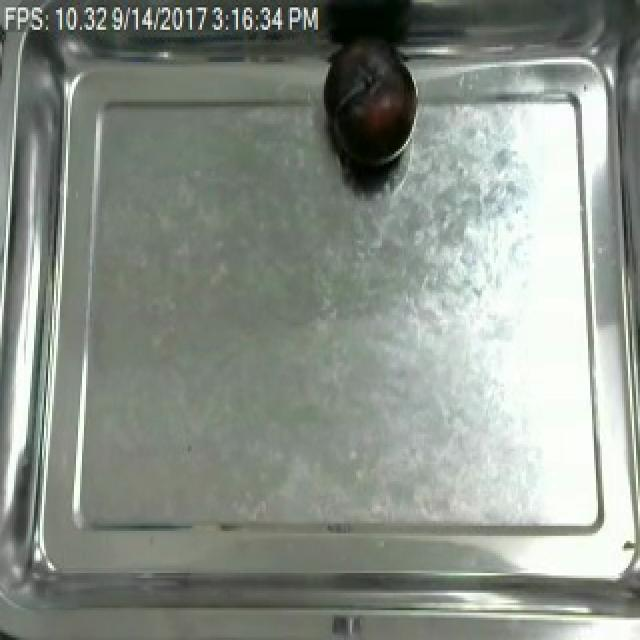Fruit: (318, 40, 420, 178)
